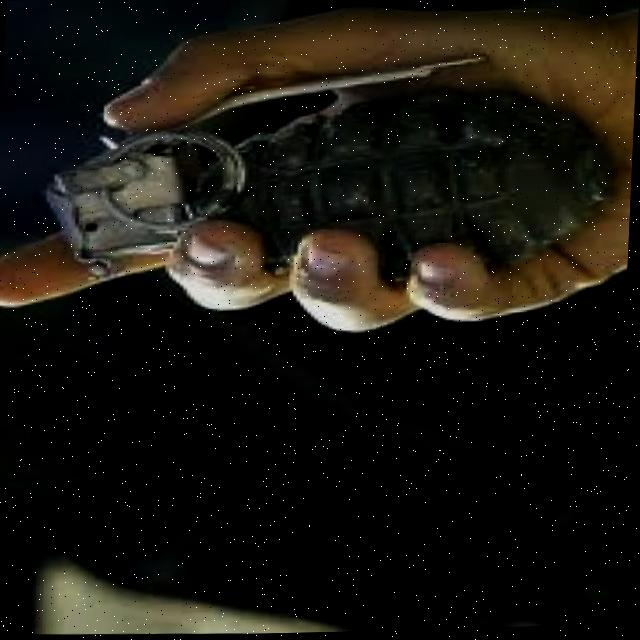grenade: (32, 44, 623, 308)
